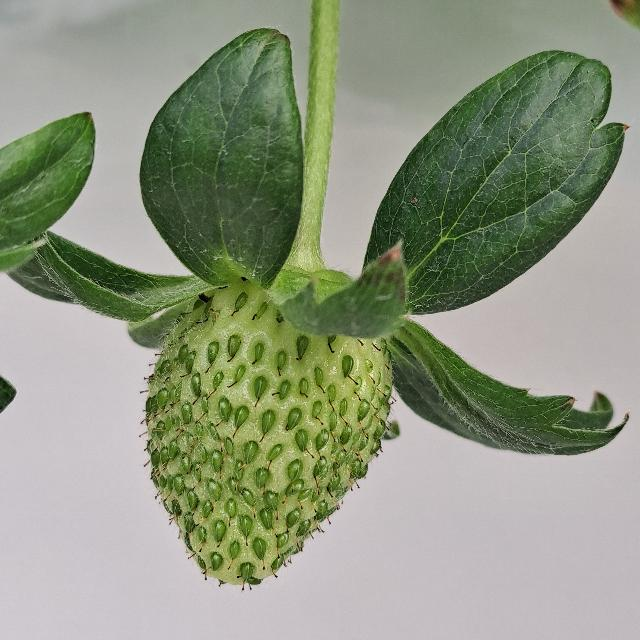Health_25: (144, 277, 392, 585)
